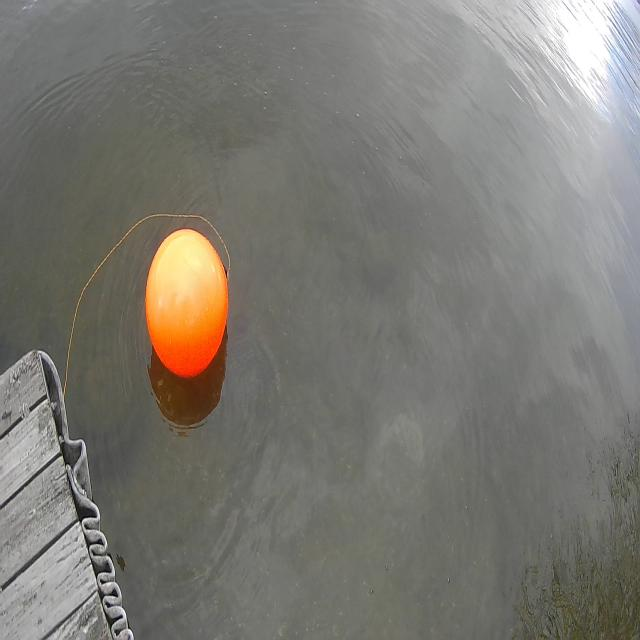Buoy: (134, 203, 244, 393)
